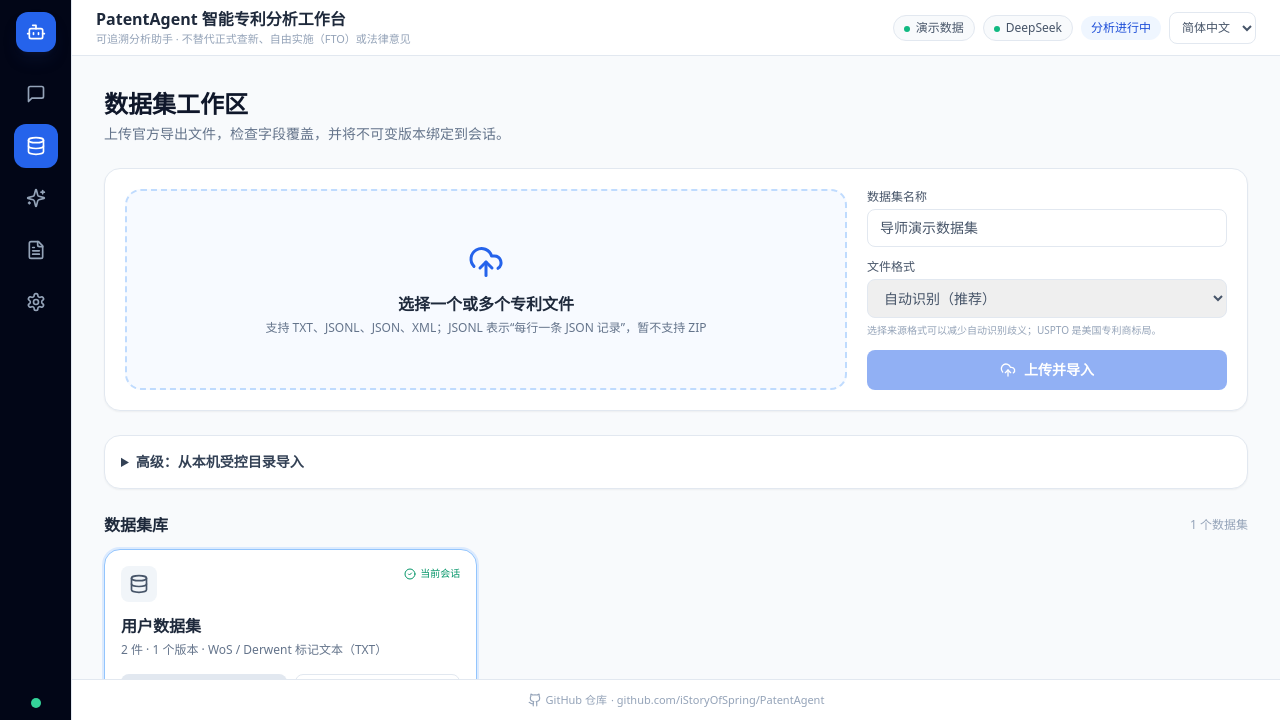
Scenario: global language switch › updates the shell and a key page without changing data values
Expected: the heading "数据集工作区" is shown, 104,87 -> 248,120
Expected: the heading "用户数据集" is shown, 121,615 -> 201,637
Step 1. Select "English" in the dropdown named "语言" → (1212, 28), box 1169,12 -> 1256,44
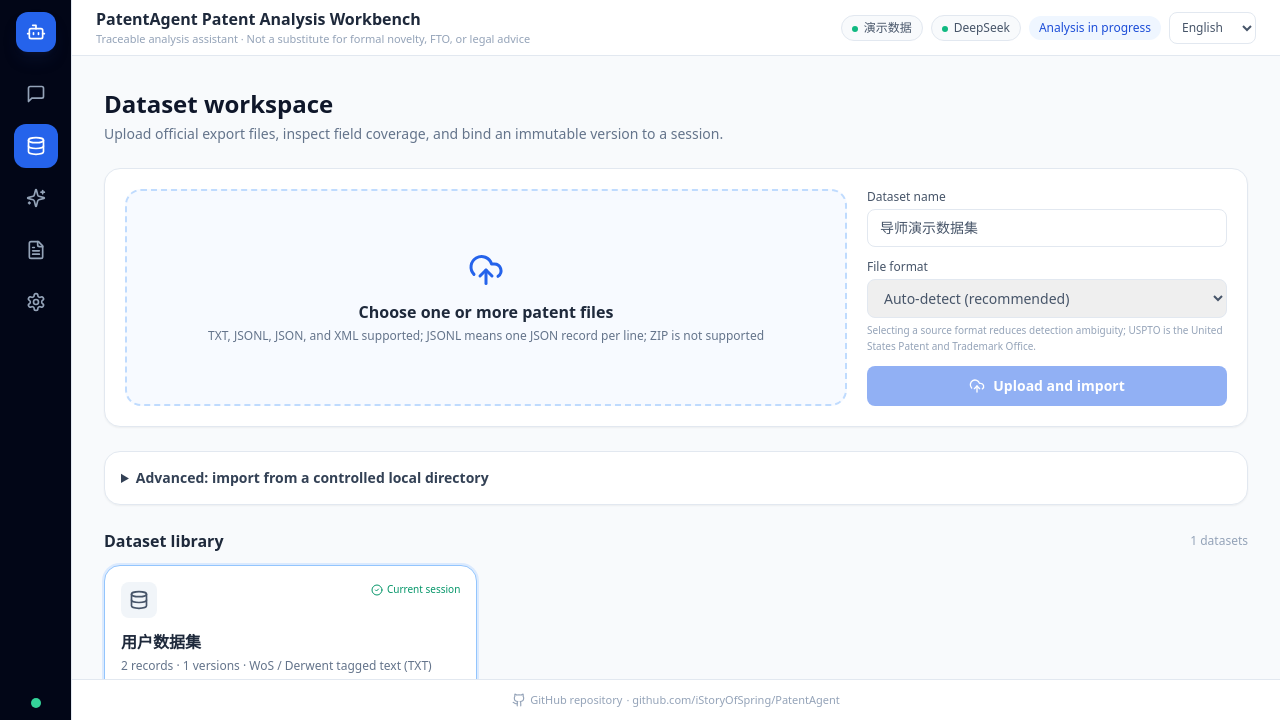
Expected: the button named "Analysis" is shown, 14,72 -> 58,116
Expected: the heading "Dataset workspace" is shown, 104,87 -> 333,120
